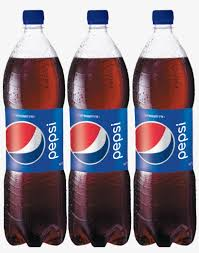bottle: (2, 4, 66, 248)
pepsi: (6, 112, 62, 173)
plastic: (2, 3, 199, 236)
